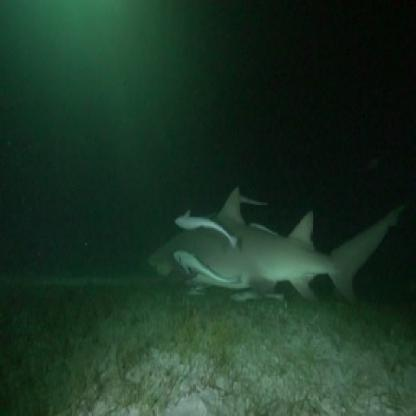shark: (147, 188, 404, 302)
